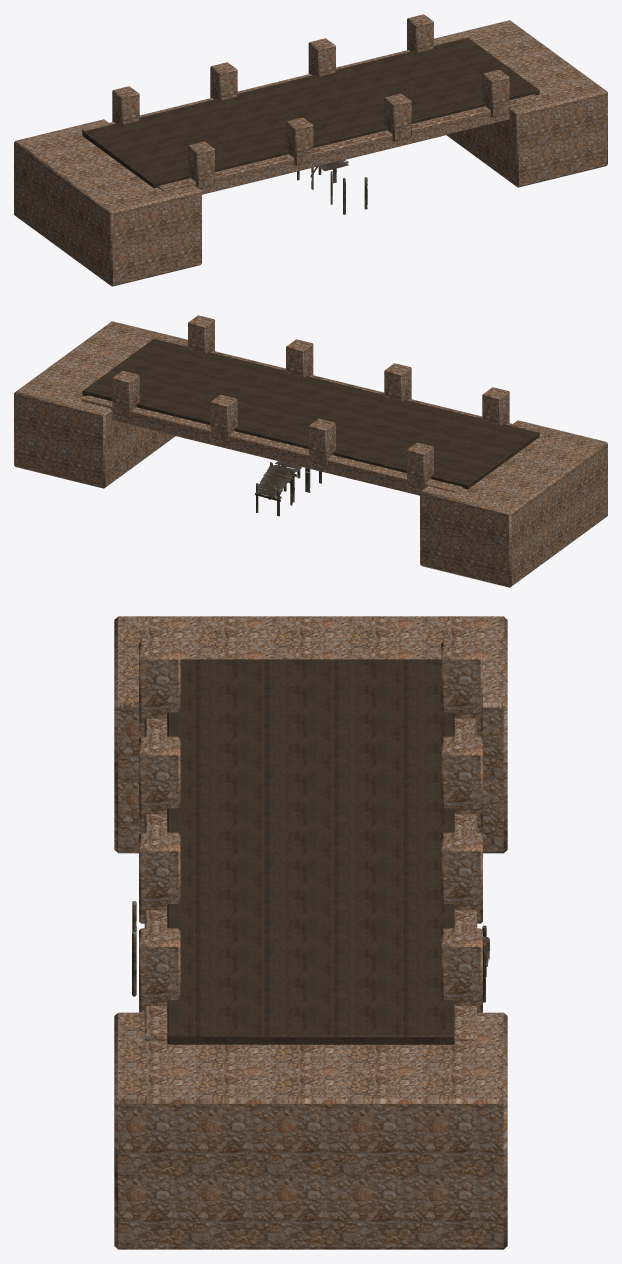
The model's file is env_ruined_bridge.glb.
3 views of the same model, one above another, from view 1: azimuth 30°, elevation 25°; view 2: azimuth 150°, elevation 25°; view 3: azimuth 270°, elevation 25° (orthographic). The views are drawn at different scales.
Visible parts, largest first — view 1: ENV_Frostheim_RuinedBridge, BridgeDeck; view 2: ENV_Frostheim_RuinedBridge, BridgeDeck; view 3: ENV_Frostheim_RuinedBridge, BridgeDeck.
Part boxes in pixels (x1,y1,x2,y2): ENV_Frostheim_RuinedBridge: (14, 14, 607, 286); BridgeDeck: (297, 159, 367, 214); ENV_Frostheim_RuinedBridge: (14, 315, 607, 587); BridgeDeck: (255, 461, 321, 516); ENV_Frostheim_RuinedBridge: (114, 616, 507, 1249); BridgeDeck: (132, 901, 489, 1002).
Size of what is drawn, in the model's own units: 15.2 by 3.15 by 5.2.
5 materials, 5 textured.
